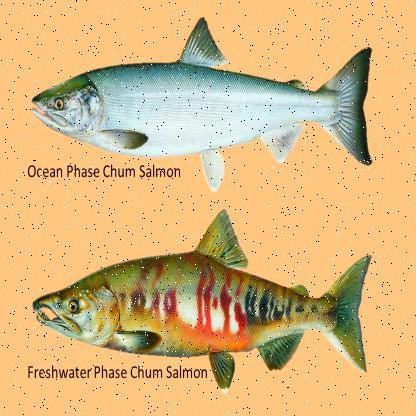fish: (31, 209, 372, 393), (31, 13, 373, 191)
